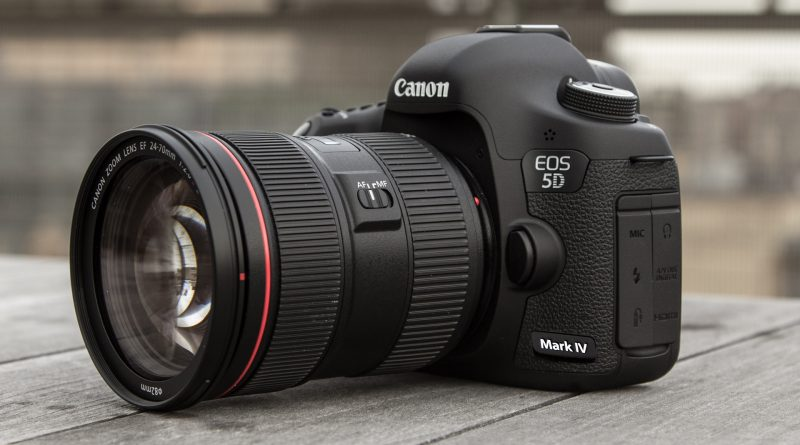kamera: (64, 21, 686, 420)
